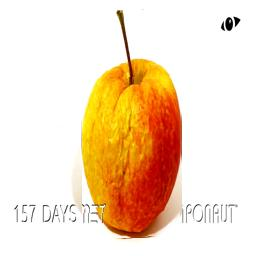Apple Semirotten: (82, 10, 182, 238)
